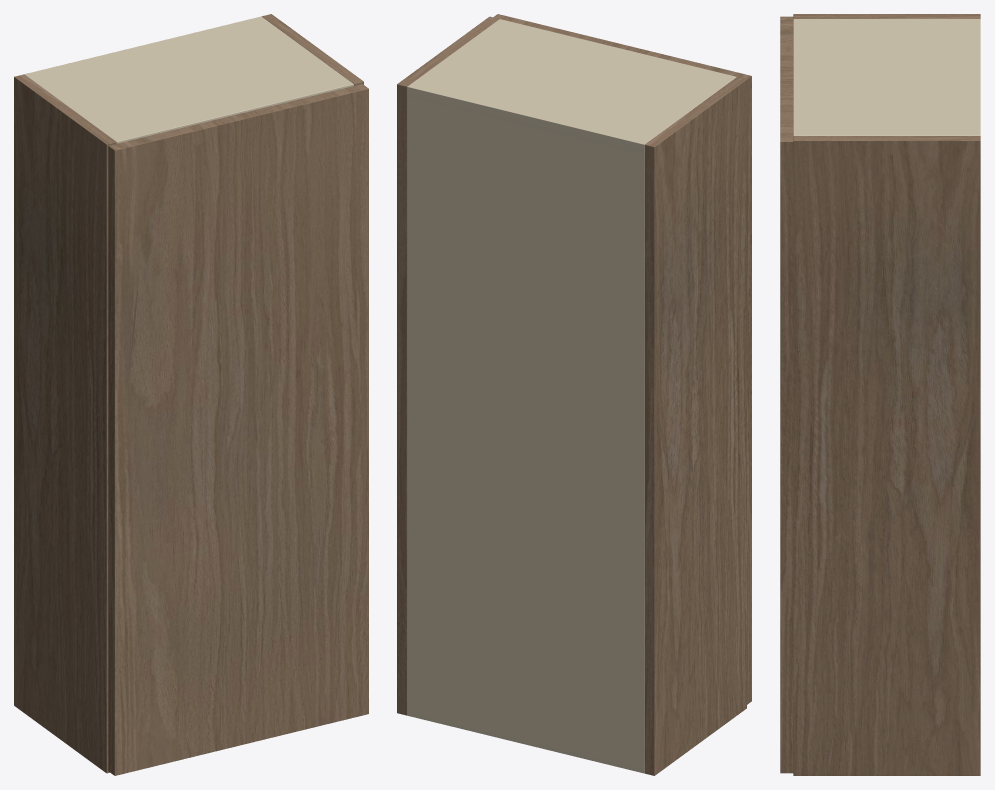
The model's file is oppein-ply-mnw-w1842.glb.
3 renders of one model, left to right at view 1: azimuth 30°, elevation 25°; view 2: azimuth 150°, elevation 25°; view 3: azimuth 270°, elevation 25°, orthographic.
Parts seen in each view (by area): view 1: Door, Cabinet side, Cabinet top, Cabinet side.001; view 2: Cabinet back, Cabinet side, Cabinet top, Cabinet side.001, Door, Cabinet bottom; view 3: Cabinet side.001, Cabinet top, Door, Cabinet side.
Part boxes in pixels (box(x1,y1,x2,y2)): Door: box(108, 84, 368, 775); Cabinet side: box(14, 74, 116, 773); Cabinet top: box(24, 16, 353, 143); Cabinet side.001: box(262, 14, 363, 85); Cabinet back: box(407, 87, 644, 772); Cabinet side: box(644, 77, 746, 775); Cabinet top: box(407, 19, 736, 154); Cabinet side.001: box(397, 16, 499, 715); Door: box(493, 14, 751, 704); Cabinet bottom: box(407, 708, 644, 773); Cabinet side.001: box(793, 136, 980, 775); Cabinet top: box(793, 19, 980, 135); Door: box(780, 16, 793, 773); Cabinet side: box(793, 14, 980, 18).
Bounding box in the file's own units: 0.4572 × 1.07 × 0.3048.
Materials: 2 (1 with a texture image).
